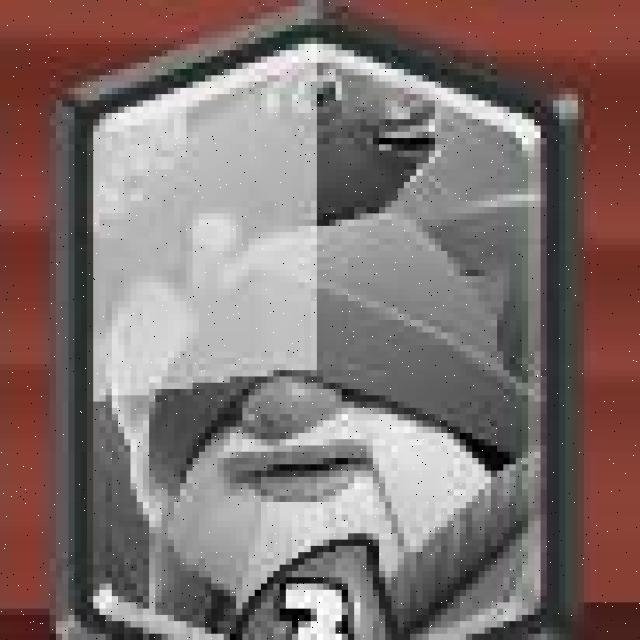Fisherman: (59, 6, 577, 640)
